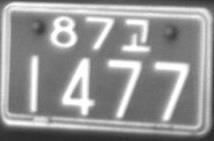1: (19, 54, 51, 113)
4: (61, 57, 95, 116)
7: (153, 59, 190, 123), (107, 57, 143, 118), (84, 15, 115, 50)
8: (49, 15, 79, 49)
고: (120, 17, 152, 52)
